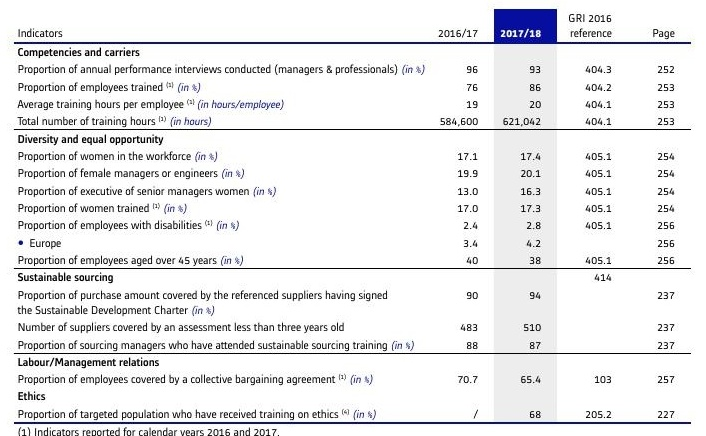table: (0, 0, 706, 436)
